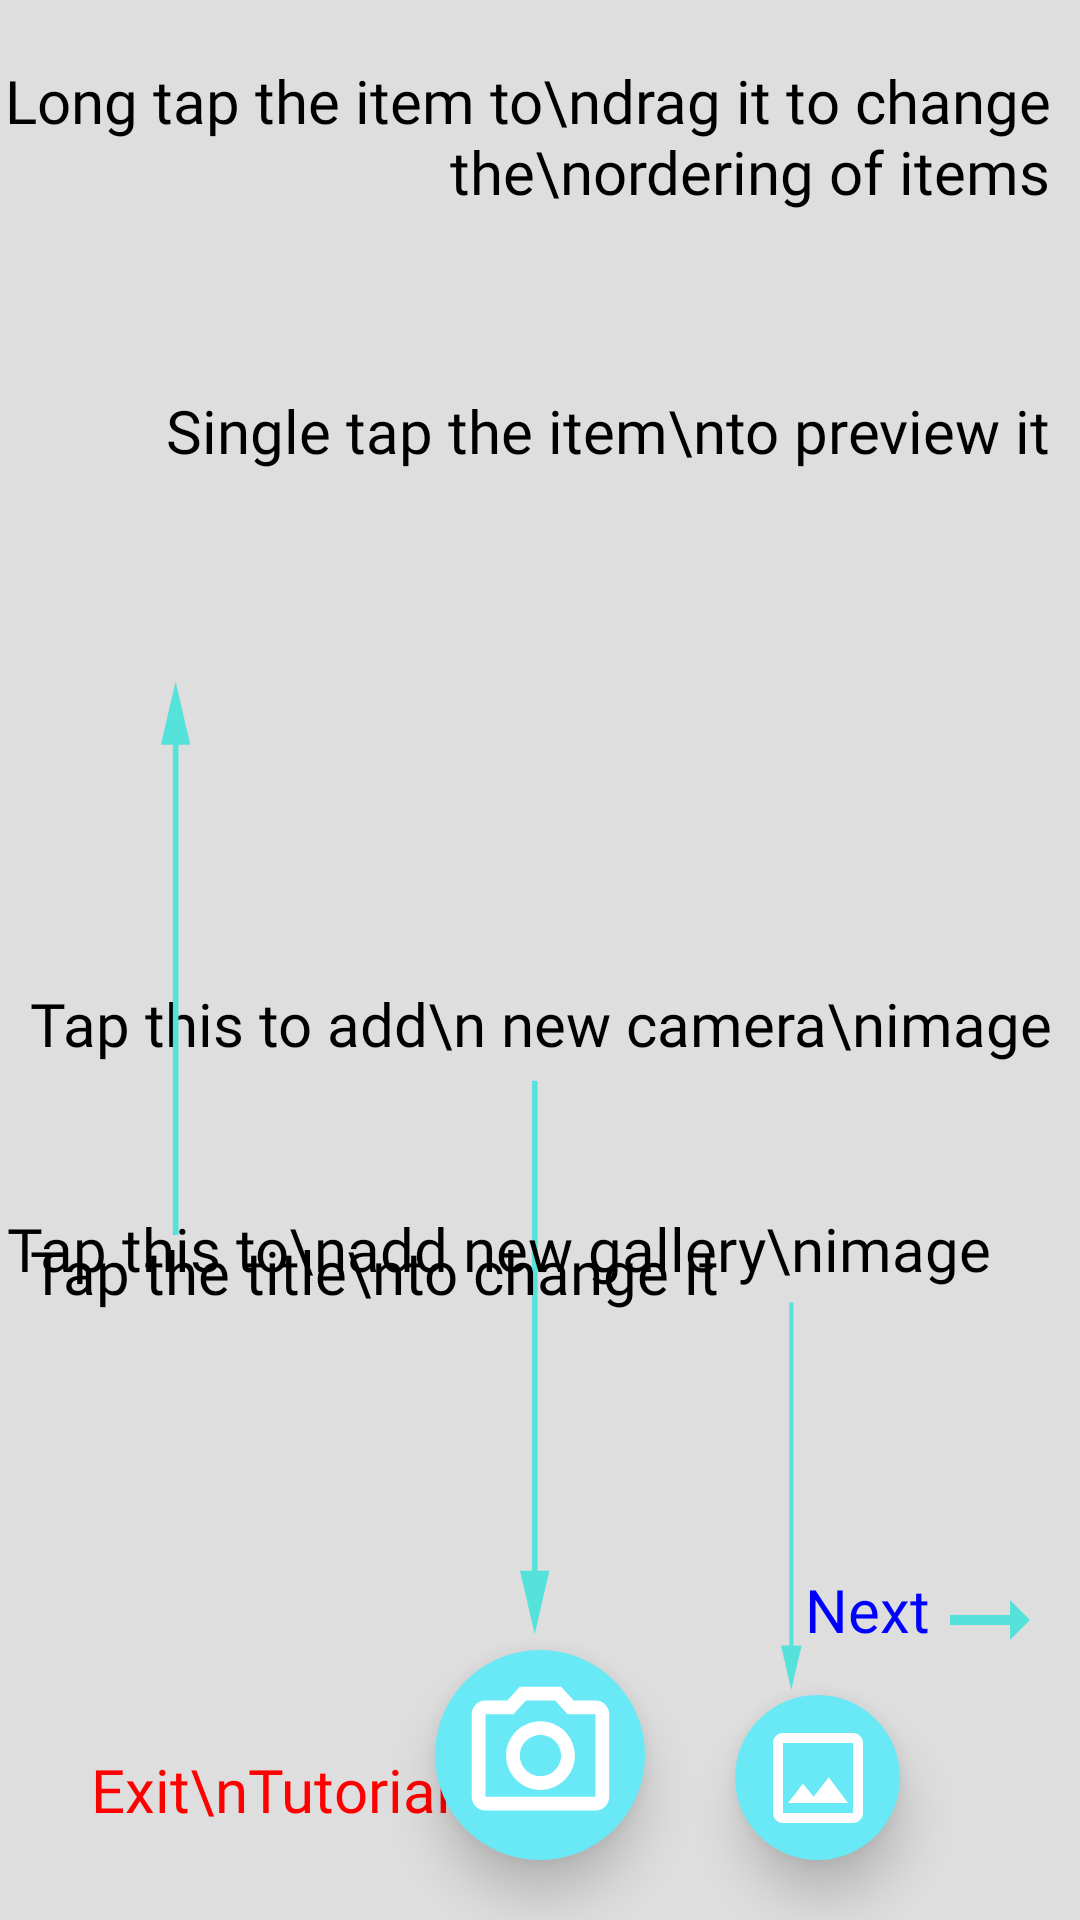

Where to tap for icons on this 1080 x 1920 app screen, as [x,y]:
arrow right: [990,1620]
